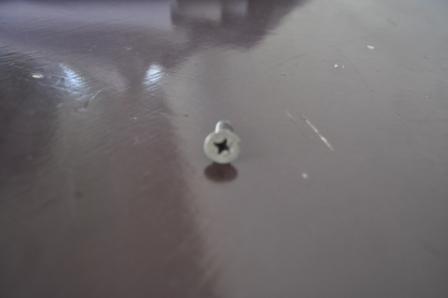NUT(AC): (203, 118, 244, 167)
